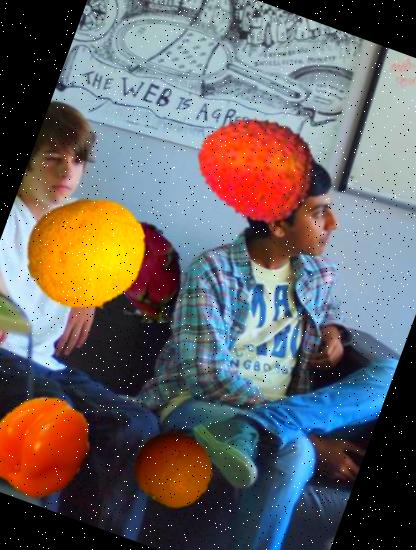Cantaloupe: (10, 178, 164, 332)
Lychee: (178, 90, 331, 242)
Orange: (122, 419, 224, 520)
Pepper: (0, 377, 106, 512)
Pitahaya: (74, 200, 214, 339)
